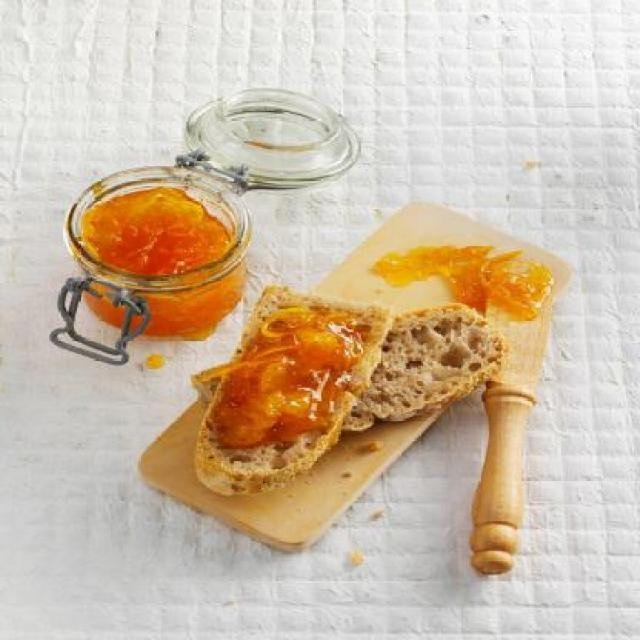Spread: (220, 312, 364, 454)
